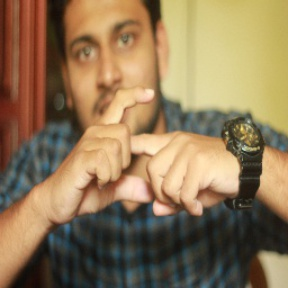E: (87, 82, 178, 209)
